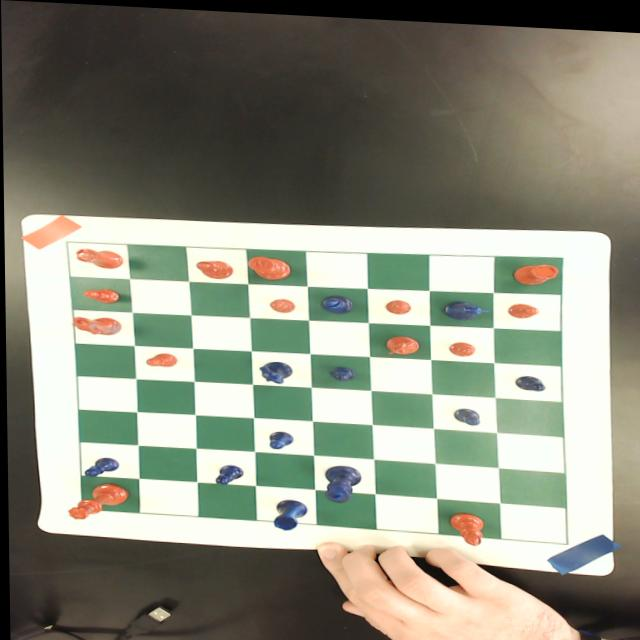B: (318, 289, 353, 313)
K: (321, 461, 363, 500)
N: (440, 294, 488, 316), (256, 357, 292, 383)
P: (82, 455, 118, 478), (211, 462, 242, 484), (450, 403, 480, 422), (266, 428, 292, 449), (513, 370, 543, 386), (328, 362, 353, 379)
R: (270, 496, 307, 529)
b: (447, 507, 484, 541), (194, 257, 232, 278)
k: (246, 253, 290, 278)
n: (68, 314, 118, 335), (382, 330, 418, 352)
p: (81, 287, 119, 303), (503, 297, 537, 314), (143, 350, 177, 366), (381, 295, 409, 311), (447, 336, 474, 352), (267, 295, 295, 310)
q: (65, 480, 127, 522)
r: (509, 257, 559, 281), (72, 247, 121, 269)
